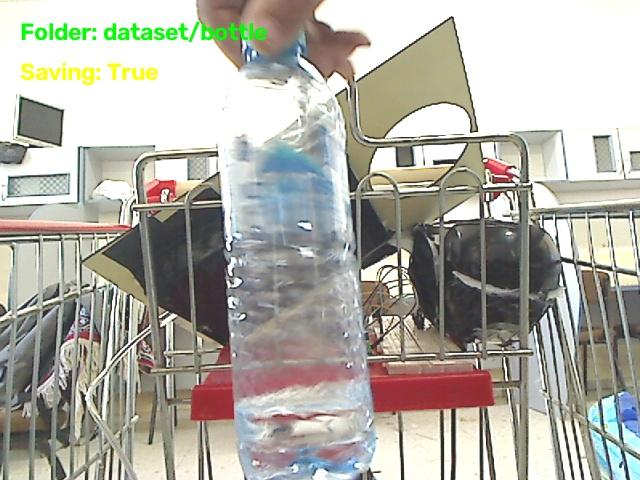Bottle: (221, 42, 374, 479)
